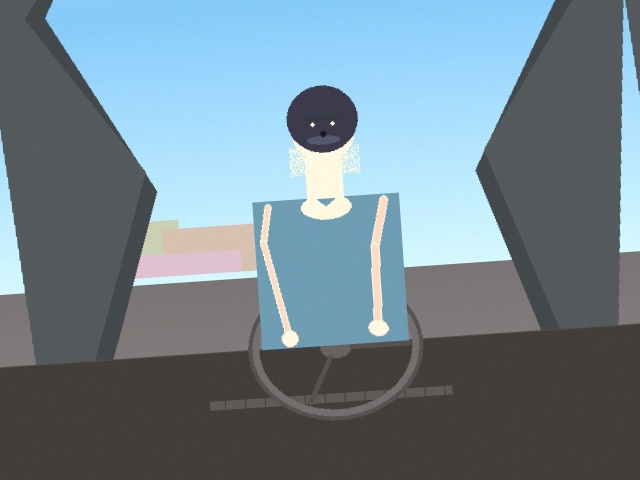normal_driving: (124, 184, 328, 348)
